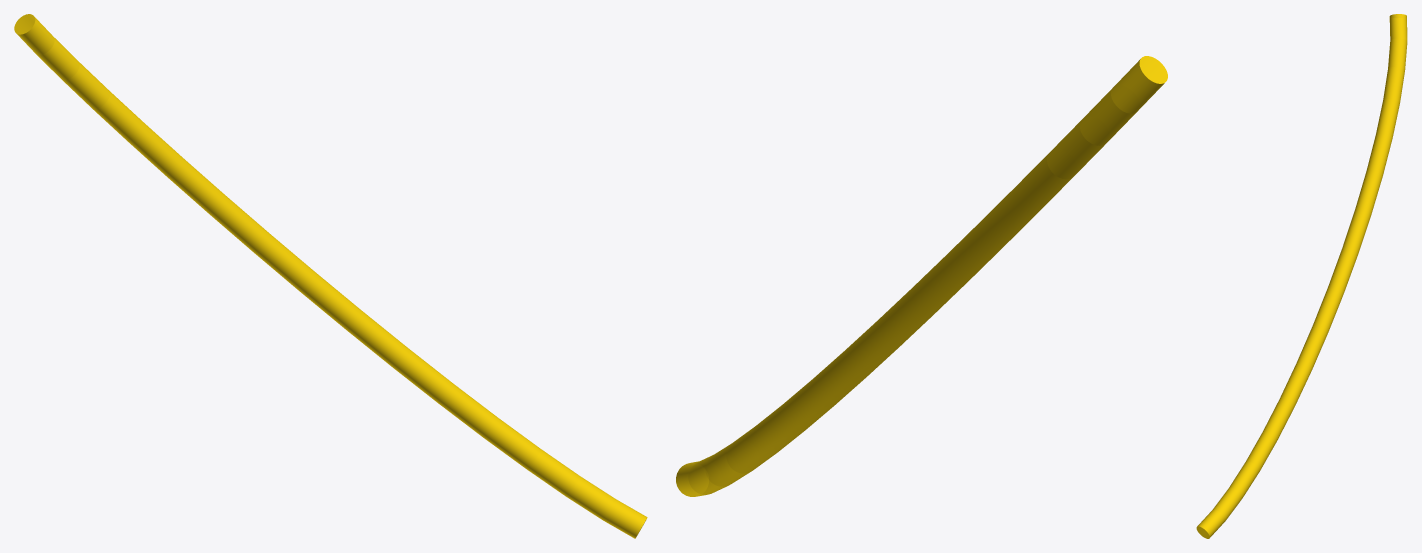
The model's file is Event_420094457_track_47.fbx.
3 views of the same model, side by side, from view 1: azimuth 30°, elevation 25°; view 2: azimuth 150°, elevation 25°; view 3: azimuth 270°, elevation 25° (orthographic). The views are drawn at different scales.
Visible parts, largest first — view 1: Model; view 2: Model; view 3: Model.
Part boxes in pixels (<box>): Model: <box>14,14,647,538</box>; Model: <box>676,56,1167,496</box>; Model: <box>1196,14,1407,538</box>.
Bounding box in the file's own units: 0.9111 × 0.9442 × 0.4902.
